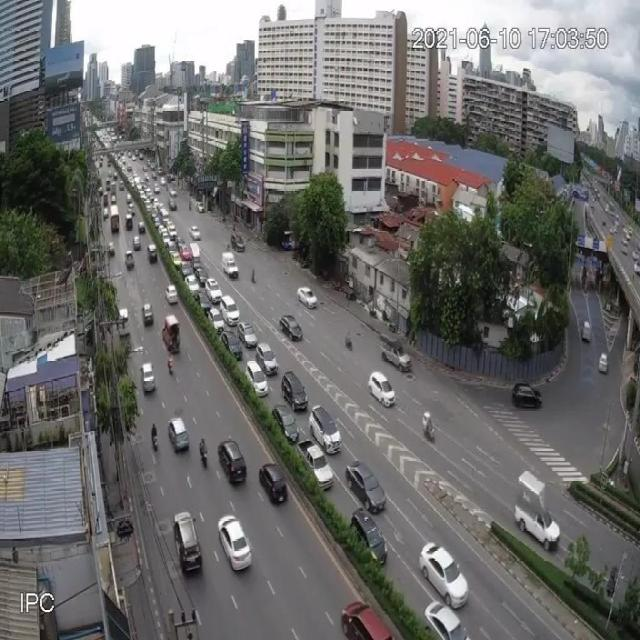Car: (419, 541, 467, 608), (346, 458, 386, 515), (350, 508, 388, 567), (342, 599, 394, 640), (171, 510, 203, 574), (218, 513, 252, 573), (423, 599, 470, 640), (309, 405, 342, 454), (218, 438, 248, 486), (258, 461, 288, 506), (280, 372, 308, 412), (368, 370, 396, 410), (271, 405, 299, 444), (246, 359, 268, 397), (168, 417, 189, 454), (256, 342, 278, 377), (512, 384, 542, 409), (221, 331, 243, 361), (279, 315, 303, 341), (237, 320, 258, 348), (204, 277, 223, 304), (140, 364, 156, 394), (298, 286, 318, 310), (208, 306, 225, 333), (184, 274, 200, 296), (141, 303, 154, 327), (230, 232, 245, 251), (165, 285, 178, 304), (598, 352, 608, 374), (196, 268, 208, 284), (180, 261, 191, 278), (124, 251, 134, 268), (171, 252, 181, 268), (189, 226, 201, 239), (132, 236, 142, 249), (127, 203, 136, 216), (107, 242, 115, 254), (137, 221, 145, 233), (103, 206, 109, 220), (196, 202, 204, 212)
Cycle: (422, 411, 435, 443), (199, 438, 209, 469), (150, 428, 158, 451), (344, 333, 353, 348)
Truck: (513, 468, 560, 552), (297, 438, 335, 492), (379, 329, 413, 372), (222, 250, 239, 280), (109, 205, 121, 235), (110, 183, 117, 206)
Van: (161, 314, 181, 354), (189, 242, 202, 272), (160, 208, 170, 228), (169, 188, 178, 210), (582, 321, 591, 341), (620, 239, 628, 255)
